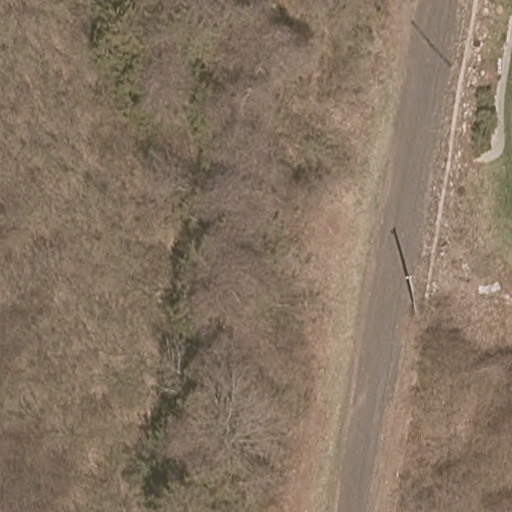DT: (404, 275, 421, 316)
